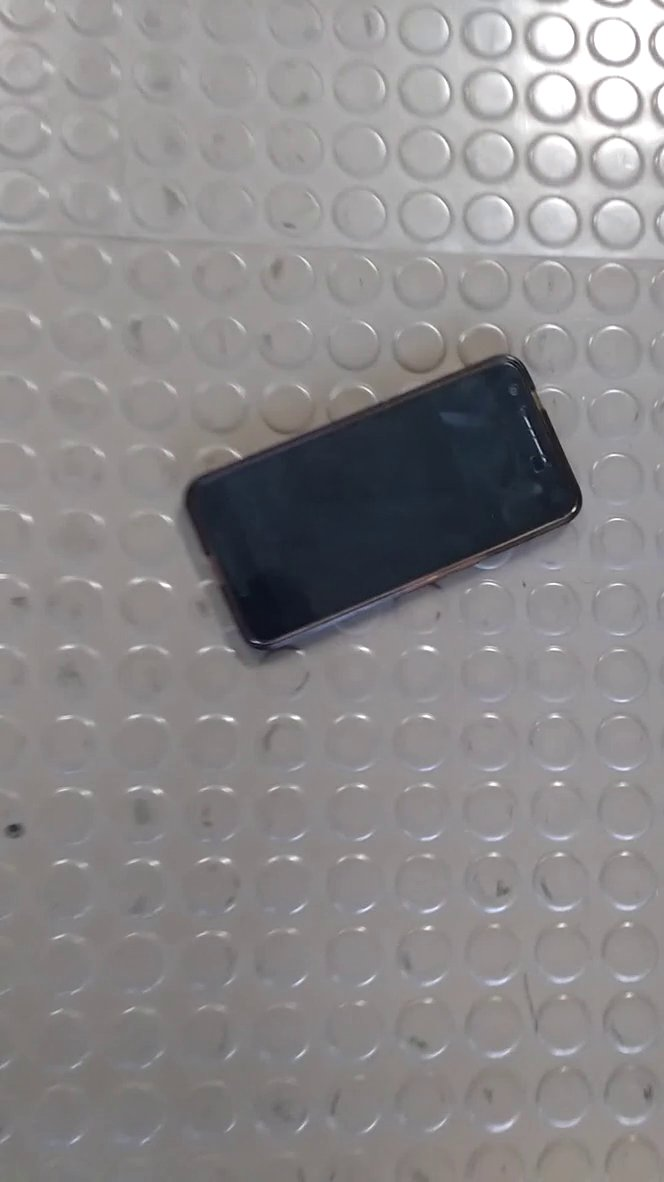phone: (177, 337, 597, 673)
